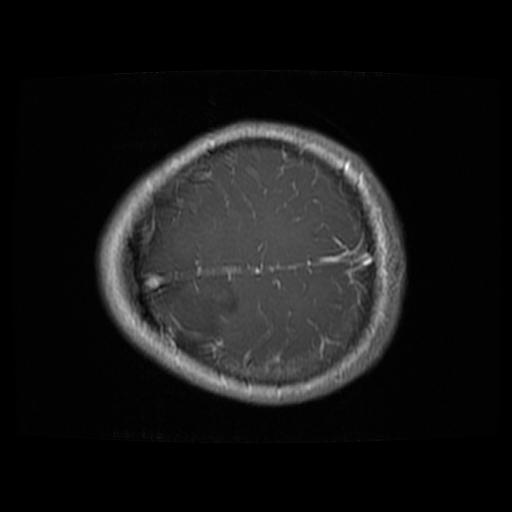glioma: (159, 277, 235, 345)
